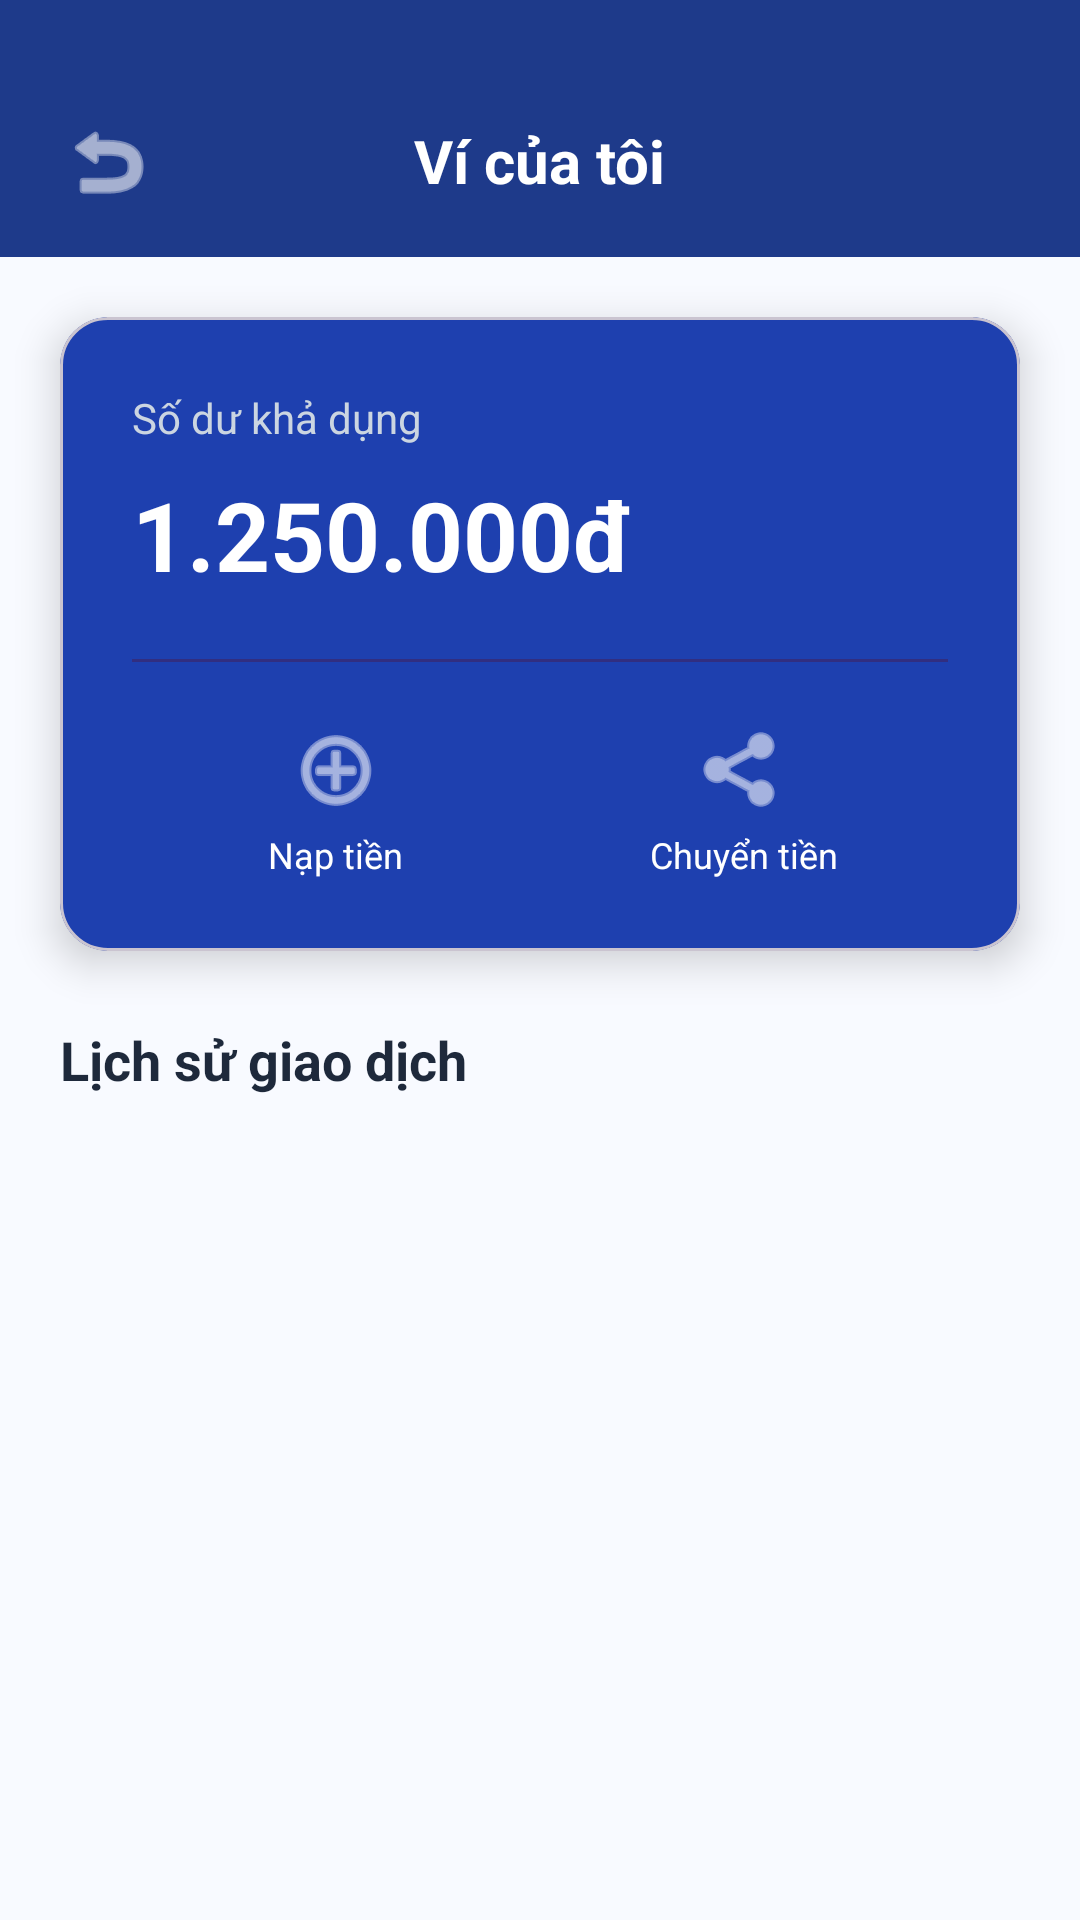

Screen size 1080*1920. Icon name, then its center in pixels as (x=x, y=y):
add: (x=336, y=770)
revert: (x=109, y=162)
share: (x=739, y=769)
